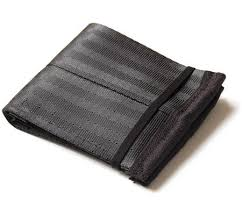monedero: (2, 23, 227, 186)
